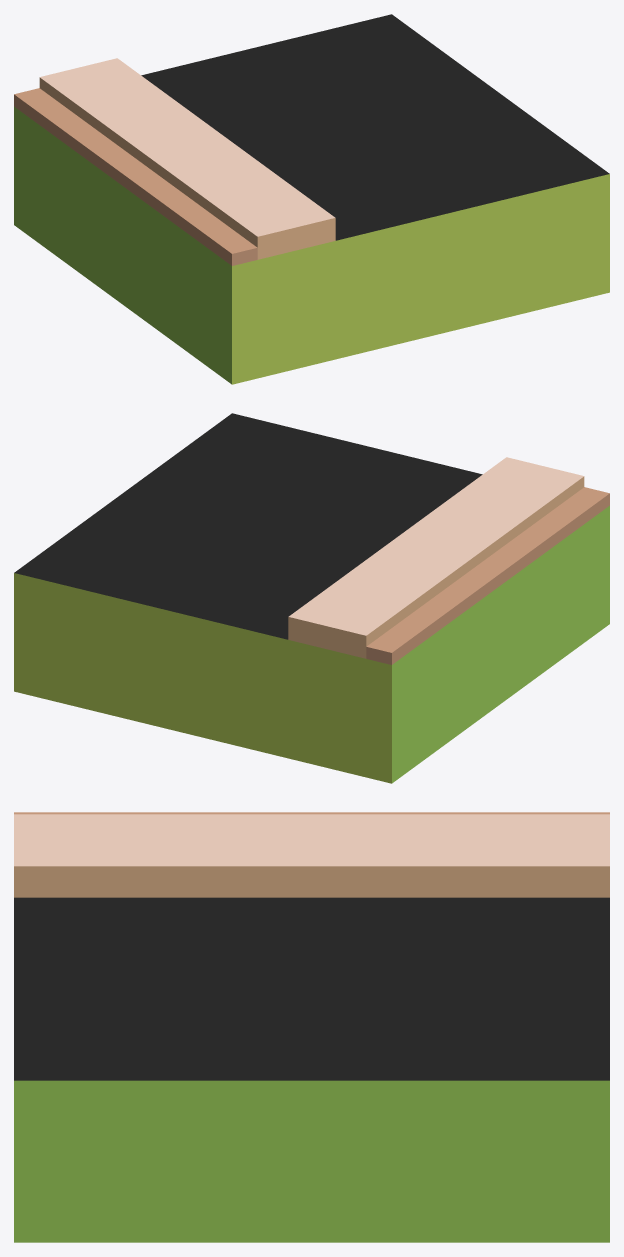
Rendered from floor_road6.fbx.
The picture shows the model from 3 angles, top to bottom: view 1: azimuth 30°, elevation 25°; view 2: azimuth 150°, elevation 25°; view 3: azimuth 270°, elevation 25°; orthographic projection. The views are drawn at different scales.
Visible parts, largest first — view 1: floor_road6; view 2: floor_road6; view 3: floor_road6.
Part boxes in pixels (x1=…): floor_road6: x1=14, y1=14, x2=609, y2=384; floor_road6: x1=14, y1=413, x2=609, y2=783; floor_road6: x1=14, y1=812, x2=609, y2=1242.
Bounding box in the file's own units: 100 × 35.83 × 100.
